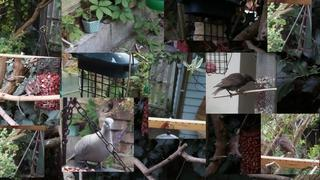collared dove: (66, 118, 114, 169)
mouse: (17, 78, 40, 117), (228, 134, 241, 158)
starling: (212, 73, 257, 98), (279, 134, 299, 158)
